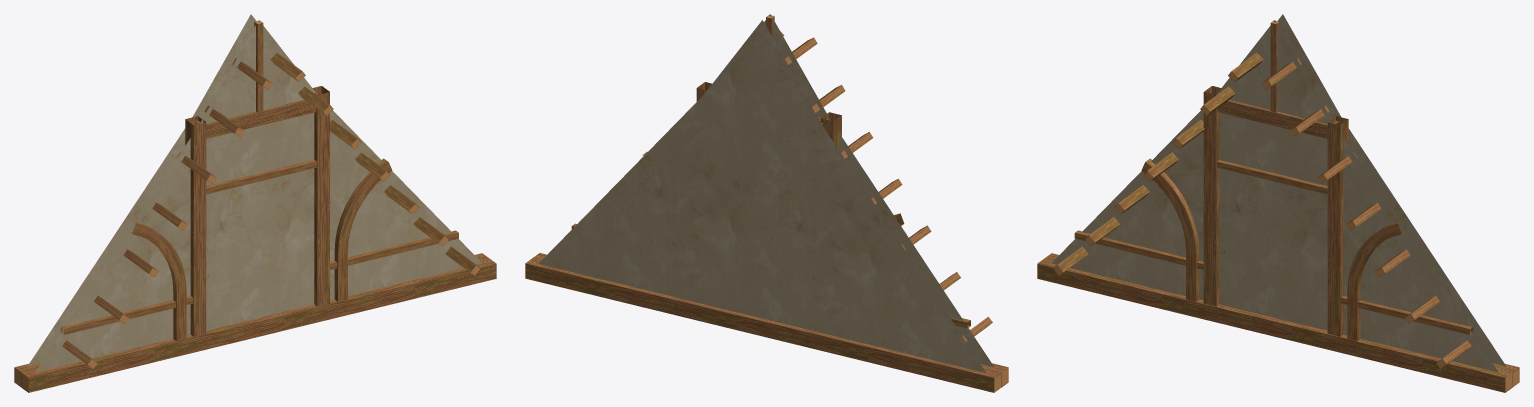
File: Roof_Front_Brick8.gltf
3 renders of one model, left to right at view 1: azimuth 30°, elevation 25°; view 2: azimuth 150°, elevation 25°; view 3: azimuth 330°, elevation 25°, orthographic.
Visible parts, largest first — view 1: Roof_Front_Brick8; view 2: Roof_Front_Brick8; view 3: Roof_Front_Brick8.
Boxes of the visible parts, x1,y1,x2,y2 form: Roof_Front_Brick8: (14,14,496,392); Roof_Front_Brick8: (525,14,1008,392); Roof_Front_Brick8: (1037,14,1519,392).
Size of the model in its own units: 8.51 by 5.45 by 1.13.
Materials: 2 (2 with a texture image).
